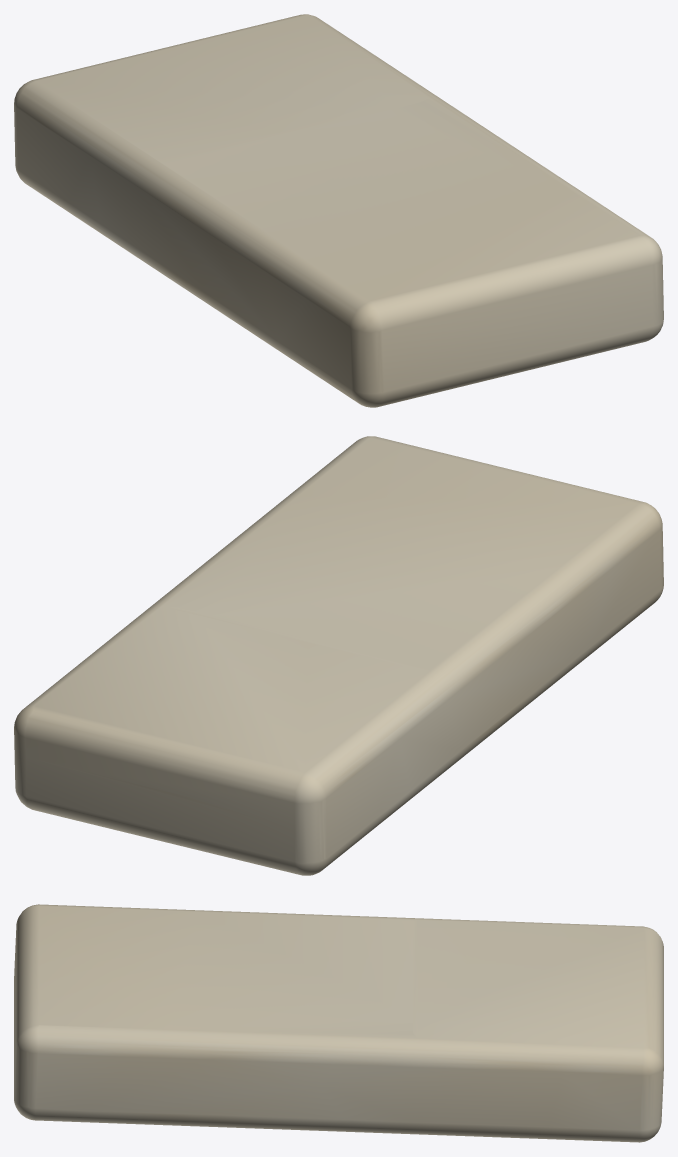
The model's file is domino-2-6-side.glb.
3 renders of one model, top to bottom at view 1: azimuth 30°, elevation 25°; view 2: azimuth 150°, elevation 25°; view 3: azimuth 270°, elevation 25°, orthographic. The views are drawn at different scales.
Parts seen in each view (by area): view 1: domino_2_6; view 2: domino_2_6; view 3: domino_2_6.
Part boxes in pixels (x1,y1,x2,y2): domino_2_6: (14, 14, 663, 407); domino_2_6: (14, 436, 663, 875); domino_2_6: (14, 904, 663, 1142).
Size of the model in its own units: 2 by 0.8449 by 4.01.
